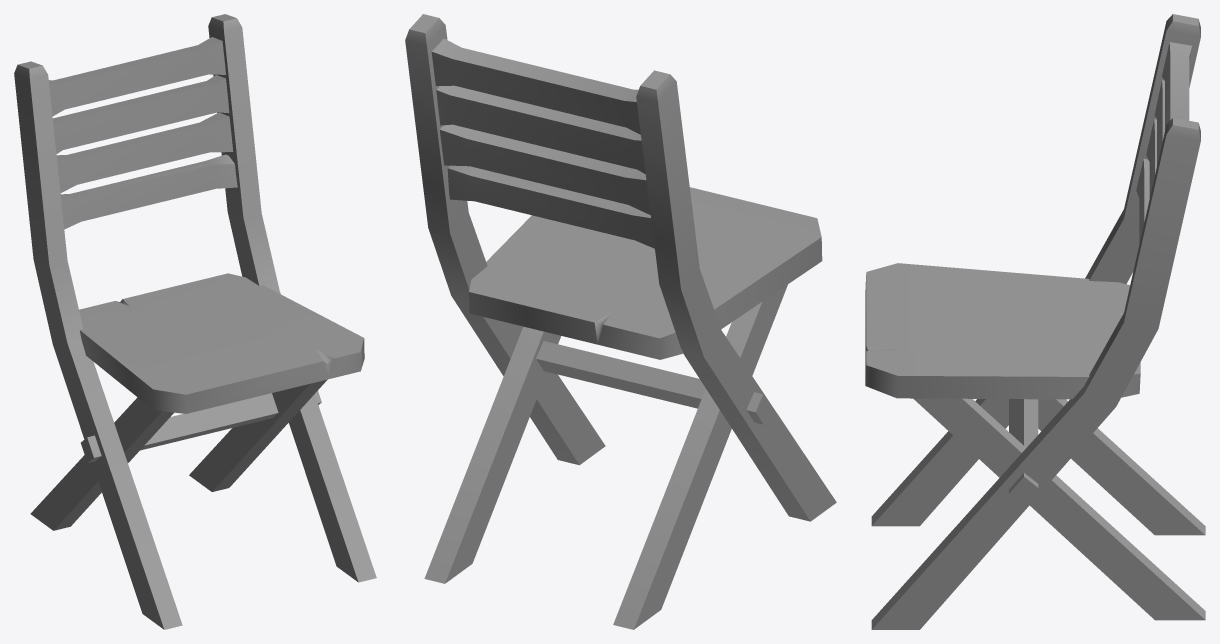
File: SM_Prop_LawnChair_01.obj
3 views of the same model, side by side, from view 1: azimuth 30°, elevation 25°; view 2: azimuth 150°, elevation 25°; view 3: azimuth 270°, elevation 25° (orthographic). The views are drawn at different scales.
Parts seen in each view (by area): view 1: SM_Prop_LawnChair_01_Mat_SwatchOverlay_PolygonTown_01_Wood_Inst; view 2: SM_Prop_LawnChair_01_Mat_SwatchOverlay_PolygonTown_01_Wood_Inst; view 3: SM_Prop_LawnChair_01_Mat_SwatchOverlay_PolygonTown_01_Wood_Inst.
Part boxes in pixels (left/top/right/bottom): SM_Prop_LawnChair_01_Mat_SwatchOverlay_PolygonTown_01_Wood_Inst: left=14, top=14, right=376, bottom=629; SM_Prop_LawnChair_01_Mat_SwatchOverlay_PolygonTown_01_Wood_Inst: left=405, top=14, right=836, bottom=629; SM_Prop_LawnChair_01_Mat_SwatchOverlay_PolygonTown_01_Wood_Inst: left=865, top=14, right=1205, bottom=629.
Bounding box in the file's own units: 0.5028 × 0.9694 × 0.5935.
1 material, 1 textured.
